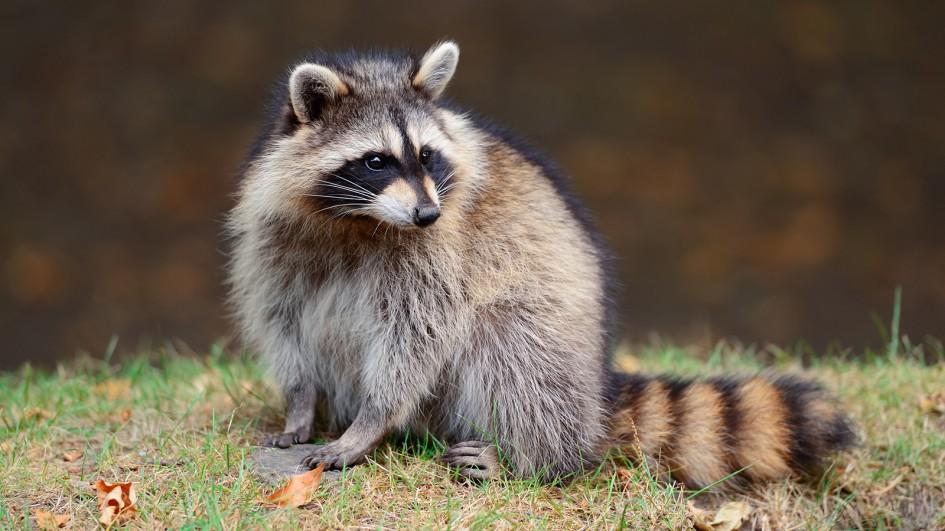raccoon: (227, 35, 878, 508)
